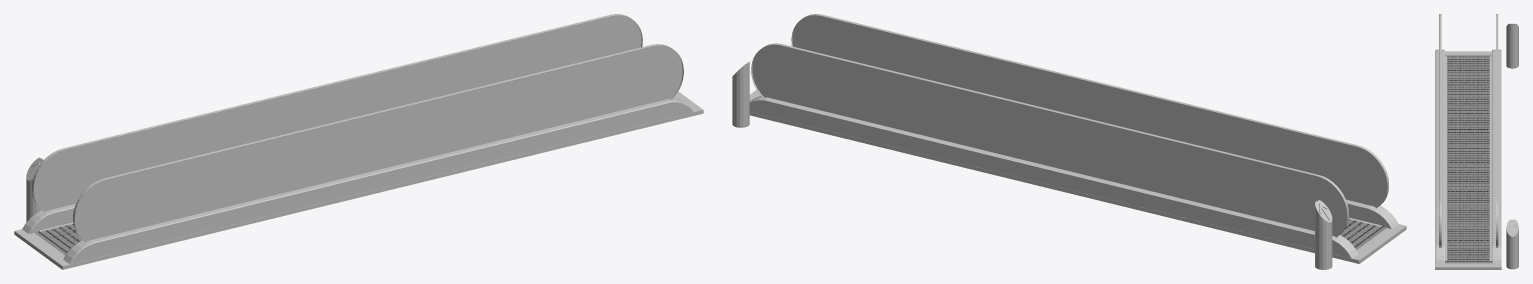
File: escalator_0001.fbx
3 views of the same model, side by side, from view 1: azimuth 30°, elevation 25°; view 2: azimuth 150°, elevation 25°; view 3: azimuth 270°, elevation 25° (orthographic). The views are drawn at different scales.
Visible parts, largest first — view 1: Plane_2, Plane, Cube_2; view 2: Plane_2, Cube_2, Cube_1, Plane; view 3: Plane, Plane_2, Cube_1, Cube_2.
Part boxes in pixels (bbox=[...]): Plane_2: bbox=[14, 14, 703, 269]; Plane: bbox=[34, 224, 81, 255]; Cube_2: bbox=[26, 157, 43, 222]; Plane_2: bbox=[749, 14, 1406, 263]; Cube_2: bbox=[1315, 200, 1332, 269]; Cube_1: bbox=[732, 61, 749, 127]; Plane: bbox=[1340, 219, 1386, 249]; Plane: bbox=[1445, 55, 1491, 263]; Plane_2: bbox=[1435, 14, 1501, 269]; Cube_1: bbox=[1506, 219, 1518, 269]; Cube_2: bbox=[1506, 23, 1518, 68].
Bounding box in the file's own units: 4106 × 492 × 673.
Materials: 7 (1 with a texture image).
